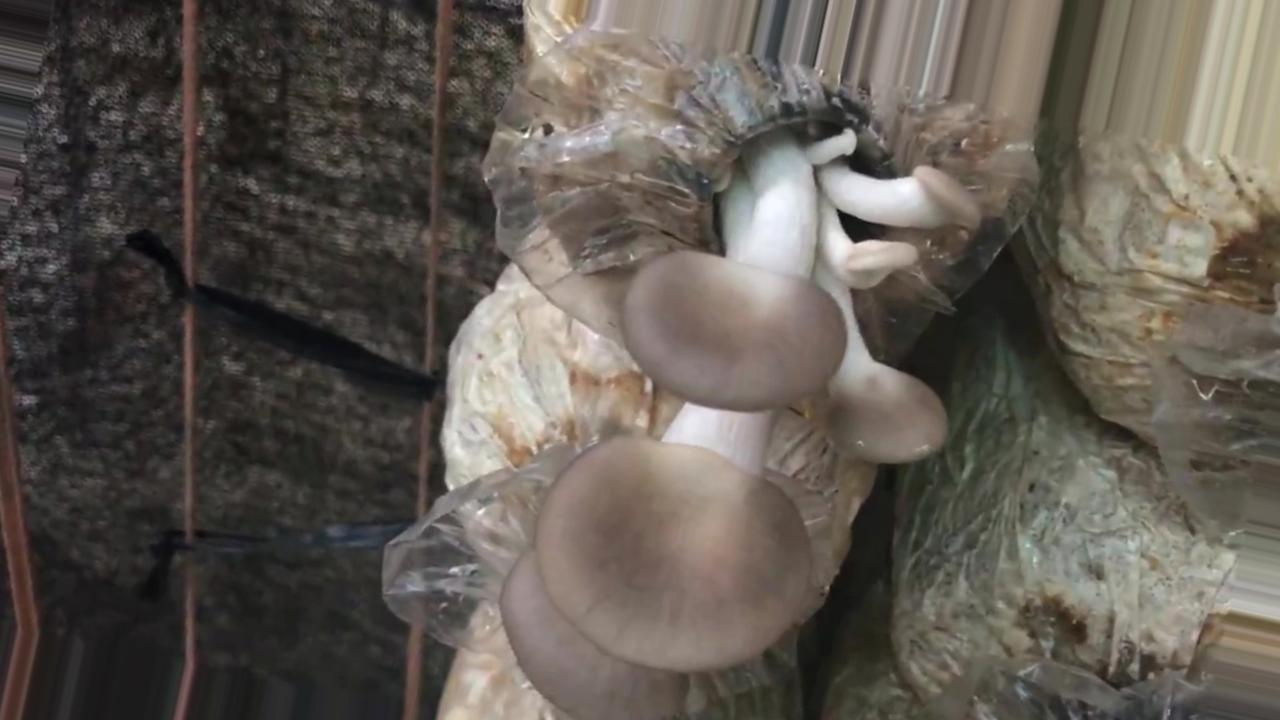nam: (505, 88, 982, 720)
